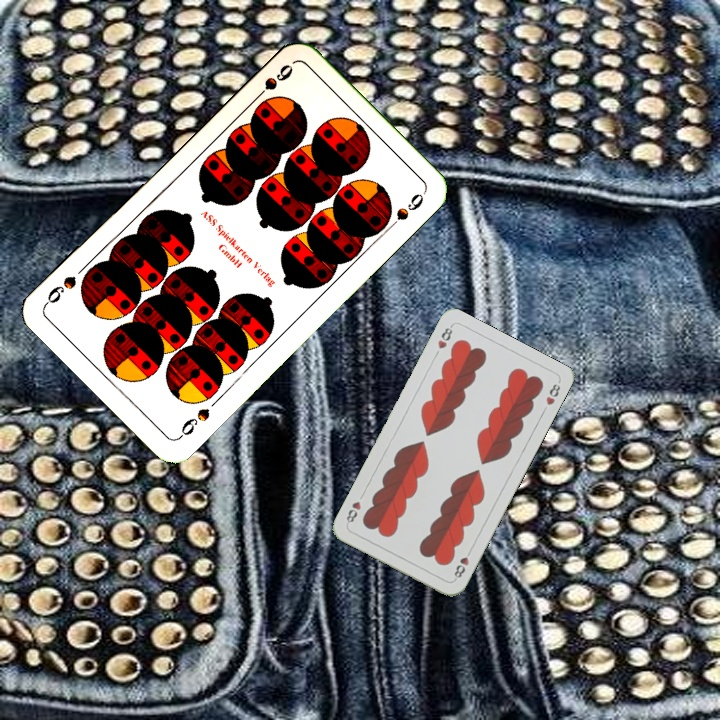H8: (450, 545, 474, 583), (433, 322, 455, 351)
S9: (248, 60, 296, 105), (174, 404, 213, 442)
